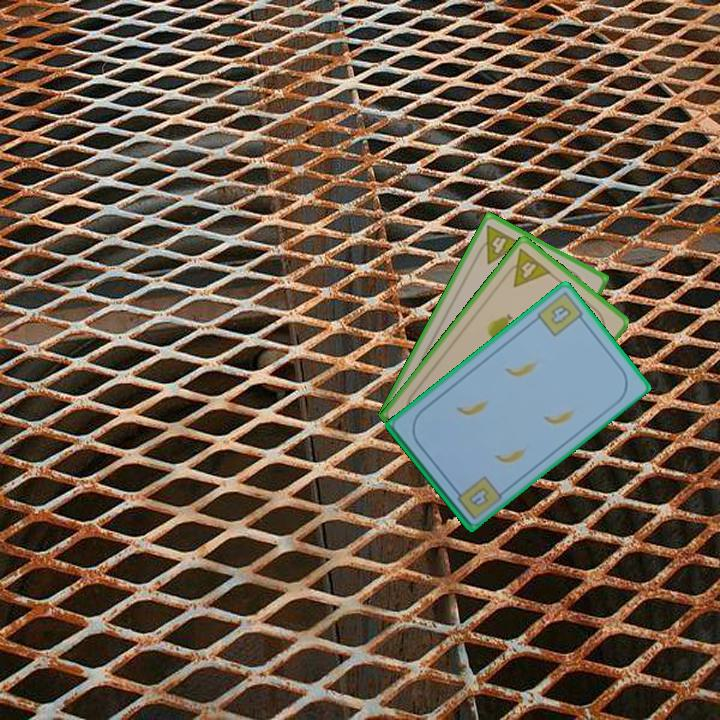4b: (533, 290, 589, 339), (465, 483, 492, 510)
4p: (499, 245, 554, 290), (472, 221, 525, 267)
